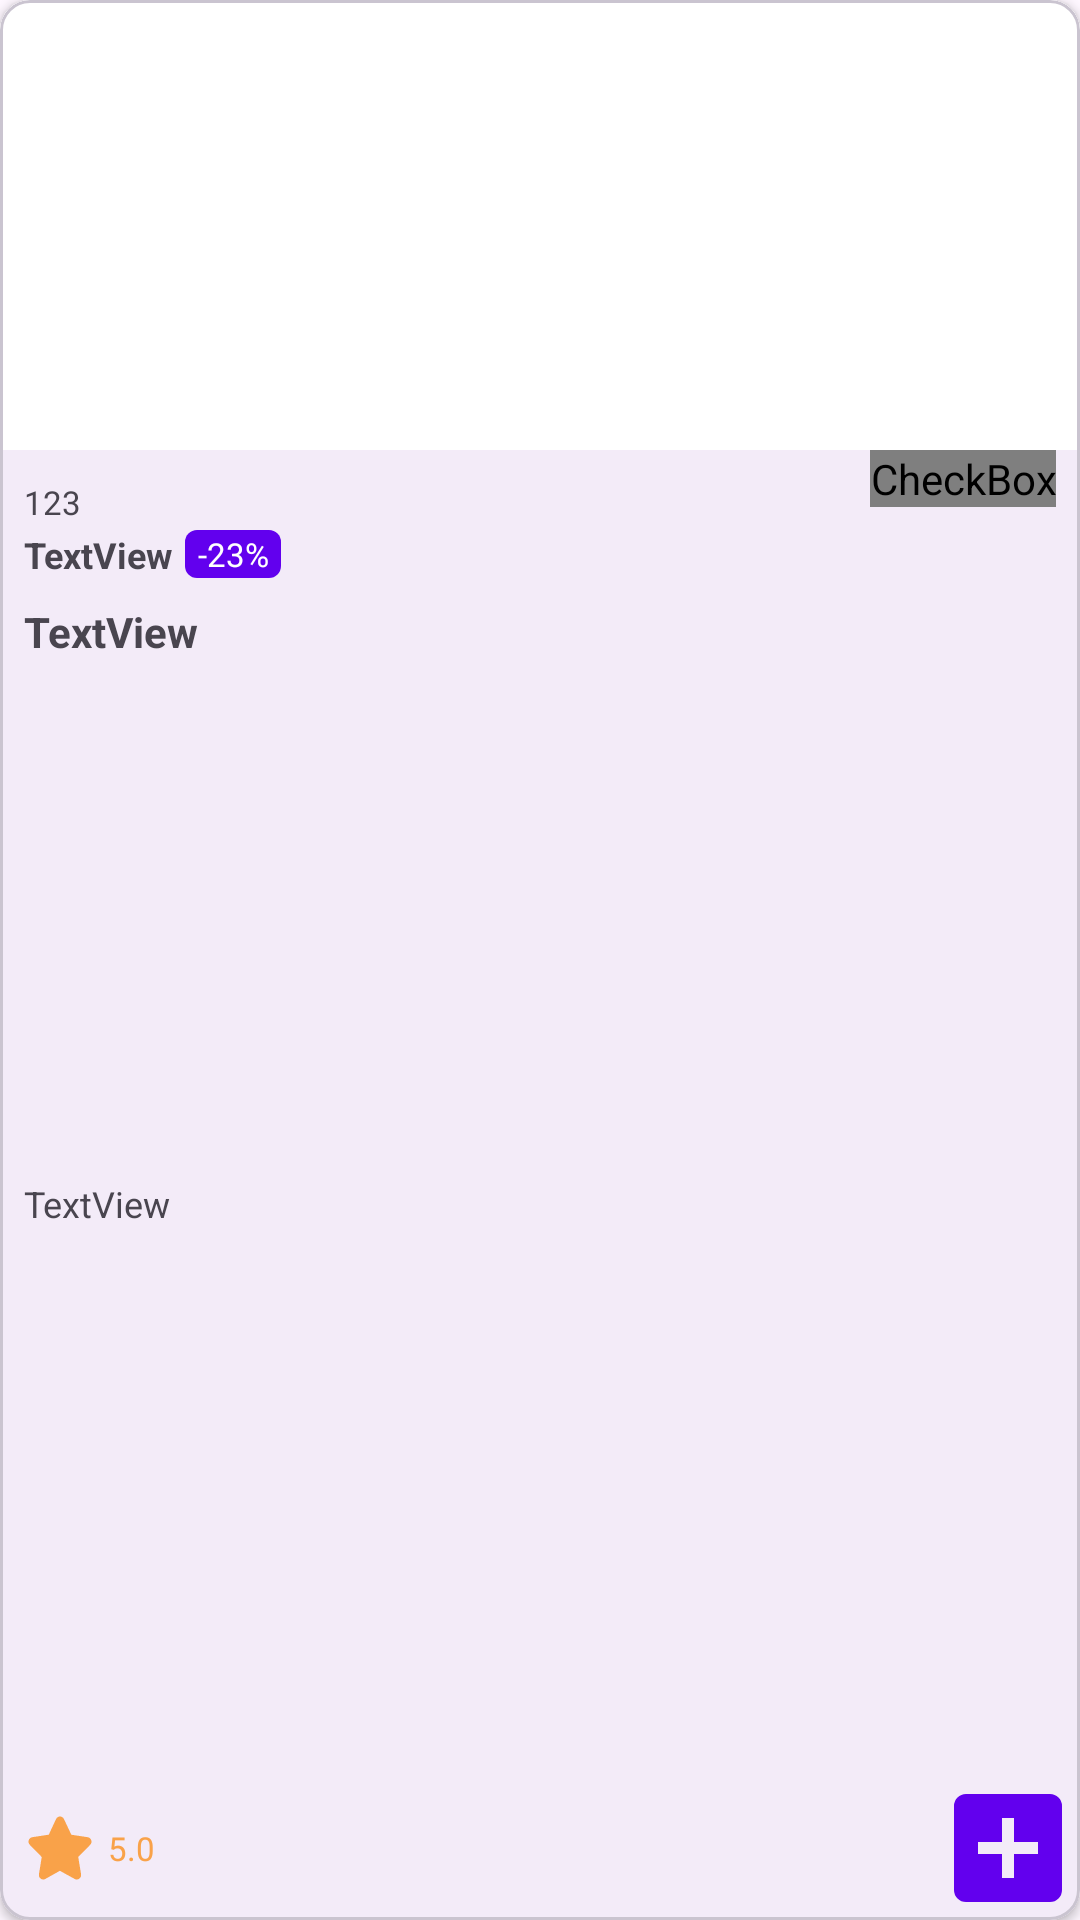

Icons on this 1080w x 1920h Android screen, each with its box as box=[x1, y1, x2, y2]:
add to cart: box=[954, 1794, 1062, 1902]
rating: box=[28, 1816, 92, 1880]
